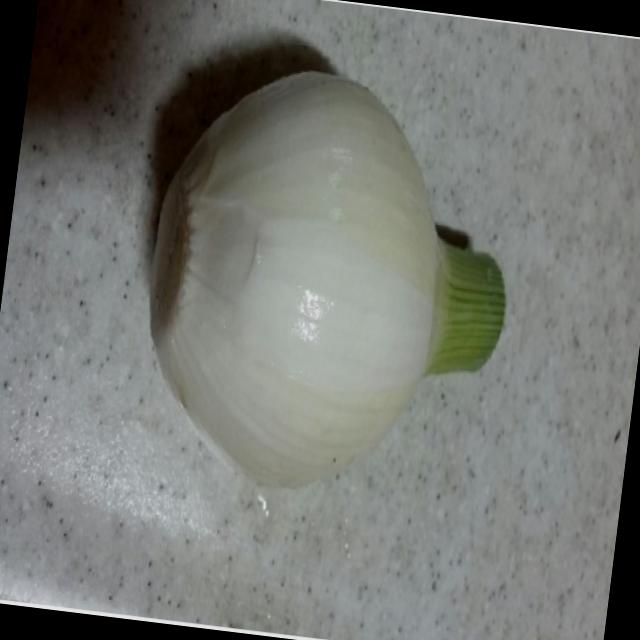onion: (108, 0, 525, 584)
